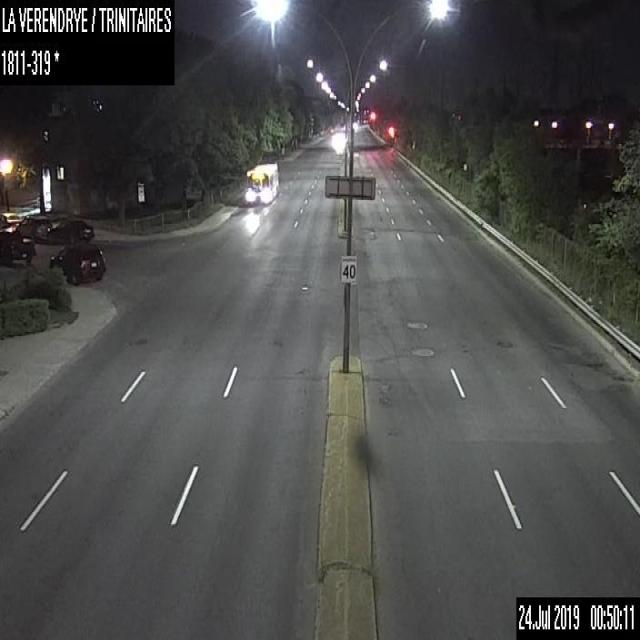bus: (244, 160, 279, 207)
vehicle: (50, 239, 105, 283), (0, 228, 35, 264), (47, 218, 94, 244), (16, 214, 51, 242), (0, 210, 23, 226)
